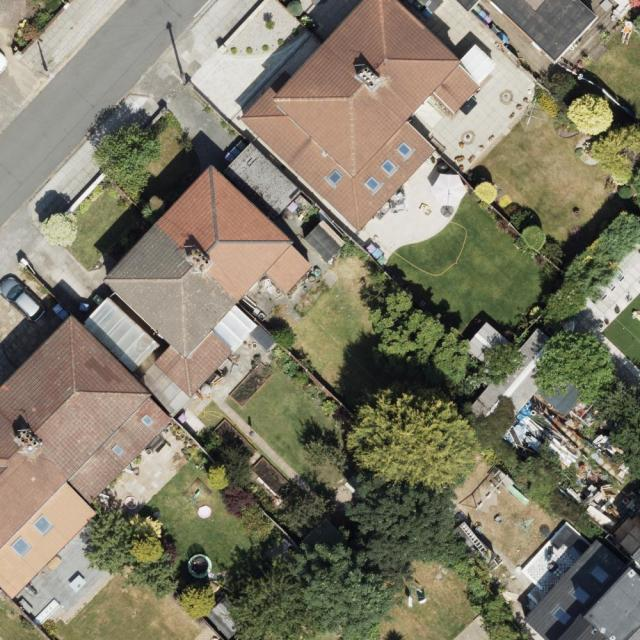roof: (103, 140, 317, 418), (242, 0, 497, 232), (0, 296, 179, 601), (528, 537, 640, 640), (487, 0, 600, 60)
skylight: (10, 535, 32, 557), (31, 513, 53, 535), (590, 564, 611, 586), (551, 604, 571, 626), (571, 586, 594, 604), (396, 140, 415, 159), (364, 175, 381, 195), (326, 170, 343, 188), (383, 158, 398, 177), (141, 412, 157, 429), (111, 444, 126, 460)
